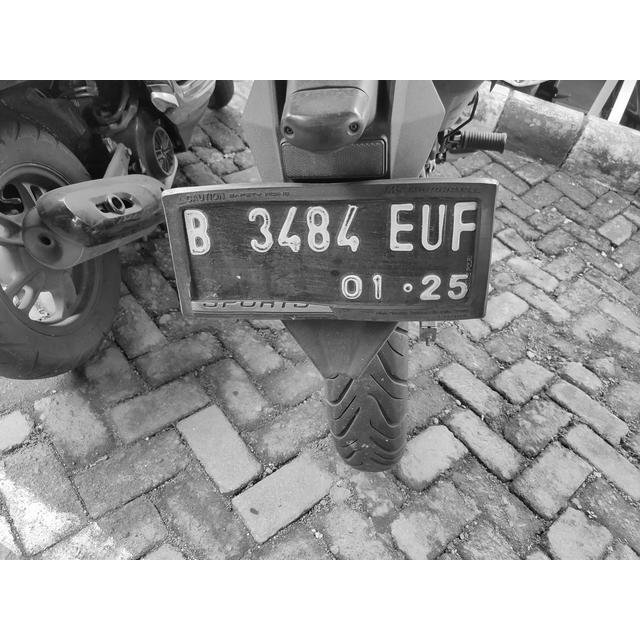license: (183, 201, 476, 305)
